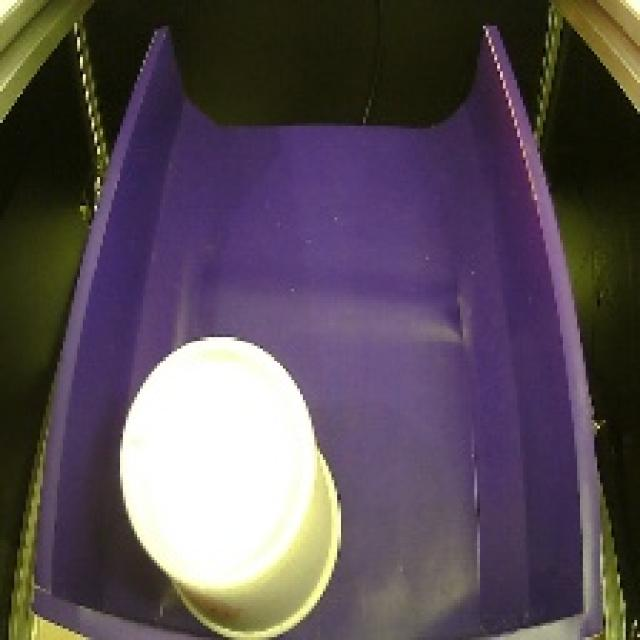cups: (109, 318, 350, 640)
